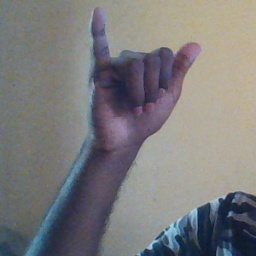J: (82, 8, 204, 147)
